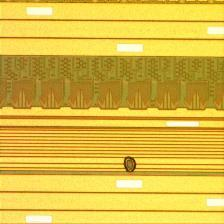PARTICLE: (119, 154, 142, 176)
